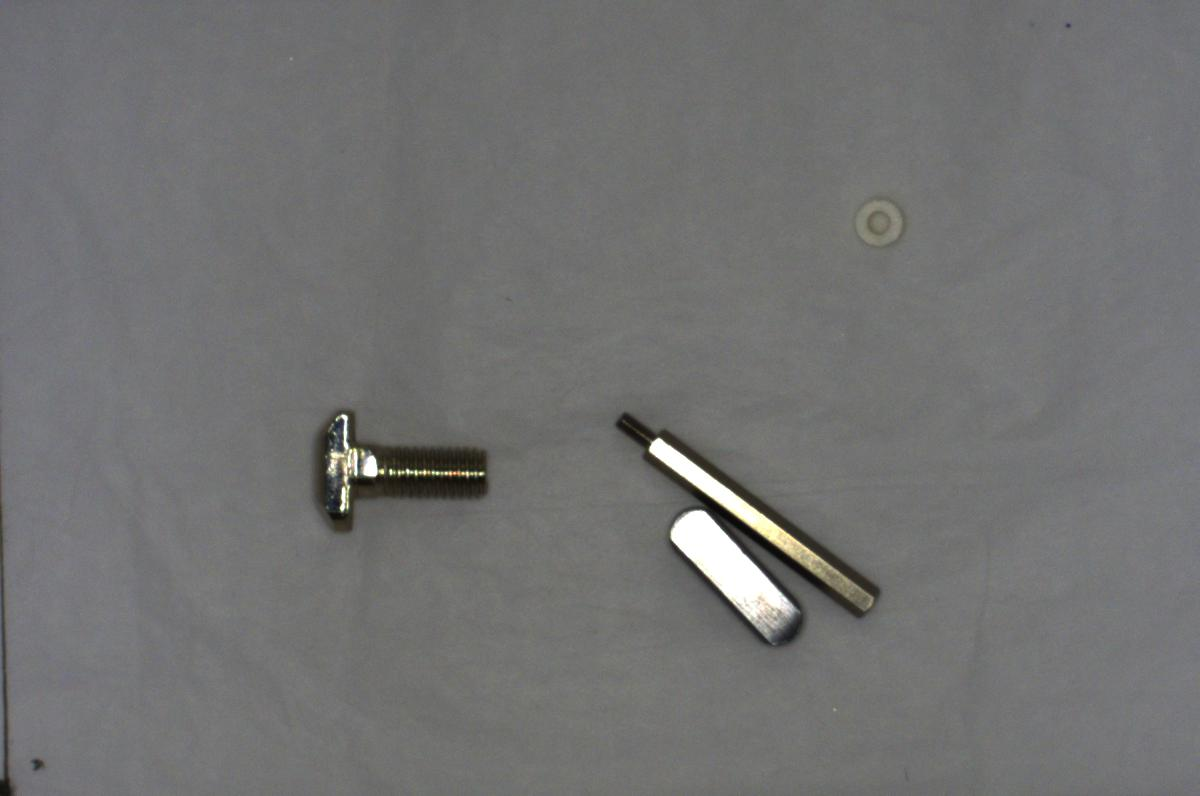Hexagonal steel column: (601, 401, 881, 627)
Keybar: (657, 499, 812, 656)
Plastic cushion pillar: (848, 195, 914, 258)
T-shaped screw: (294, 396, 497, 540)
